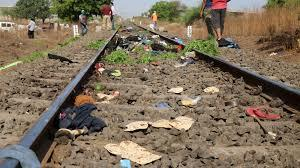mulch: (124, 113, 198, 138), (105, 137, 161, 166), (61, 105, 103, 136)
